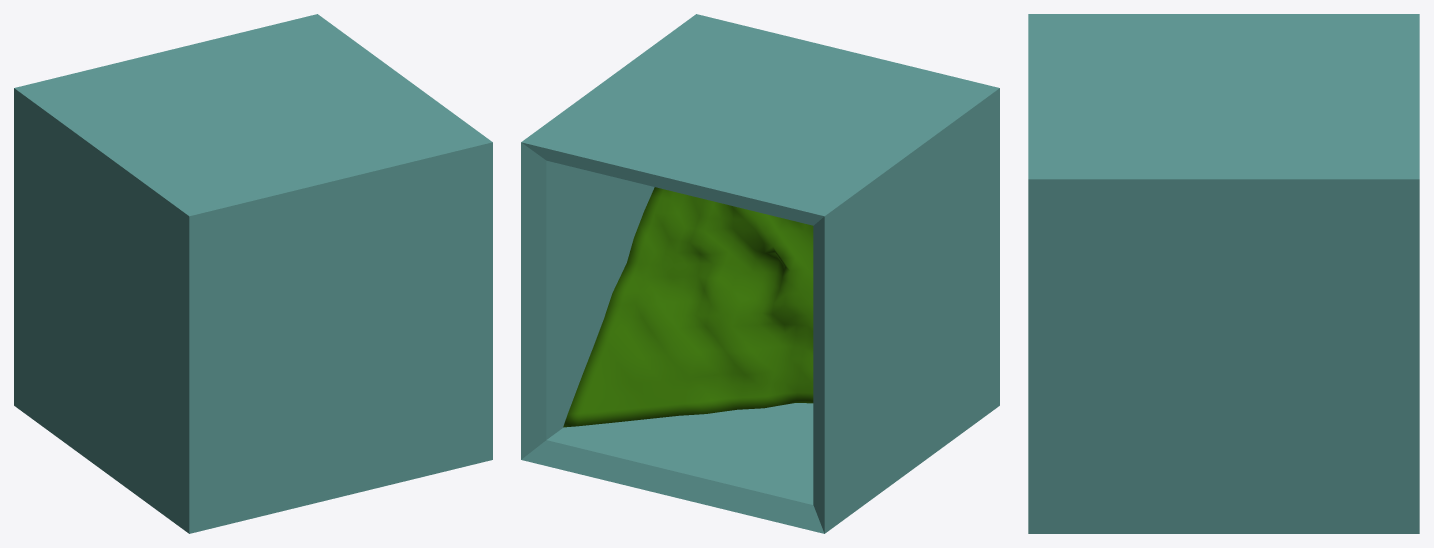
Rendered from demo_scene1.obj.
The picture shows the model from 3 angles, left to right: view 1: azimuth 30°, elevation 25°; view 2: azimuth 150°, elevation 25°; view 3: azimuth 270°, elevation 25°; orthographic projection. The views are drawn at different scales.
Visible parts, largest first — view 1: water_container_water_container_mesh; view 2: water_container_water_container_mesh, water_land_water_land_mesh; view 3: water_container_water_container_mesh.
Boxes of the visible parts, left/top/right/bottom form: water_container_water_container_mesh: left=14, top=14, right=492, bottom=533; water_container_water_container_mesh: left=521, top=14, right=999, bottom=533; water_land_water_land_mesh: left=563, top=187, right=813, bottom=427; water_container_water_container_mesh: left=1028, top=14, right=1419, bottom=533.
Size of the model in its own units: 10 by 10 by 10.
